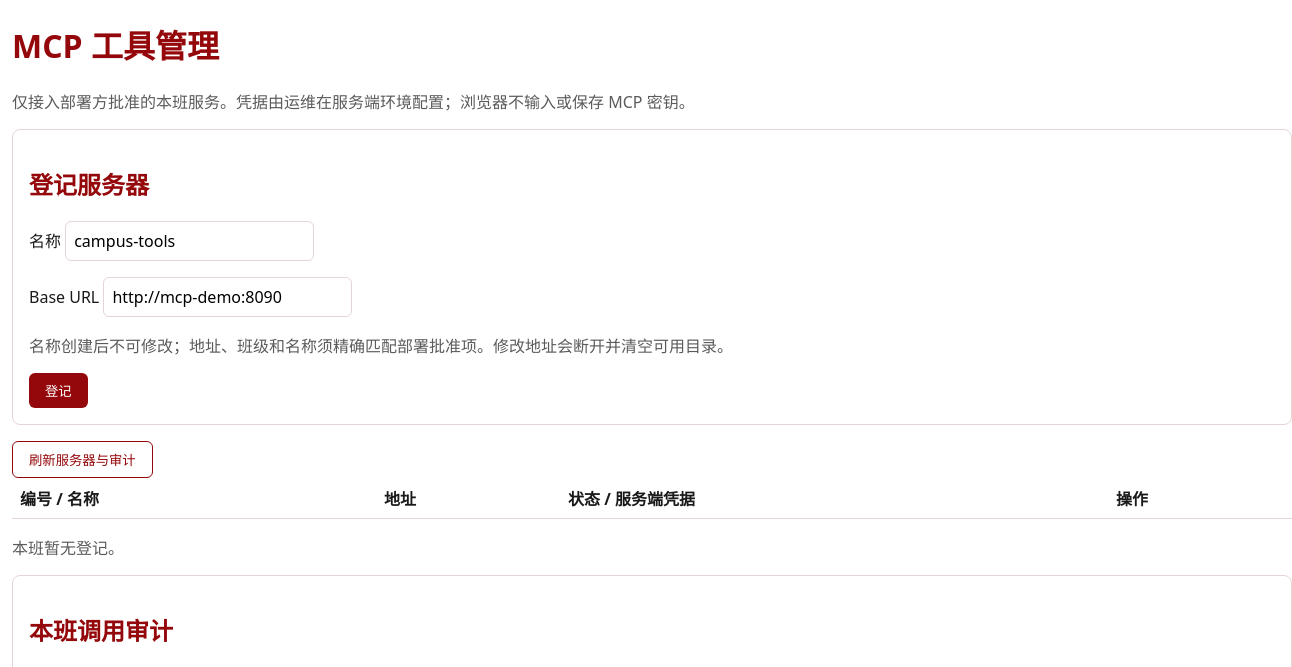
Test: MCP management › shows has_token only, supports registration/update/delete and never stores MCP credentials
Submit the form that starts with "登记服务器", box [12, 129, 1291, 425]
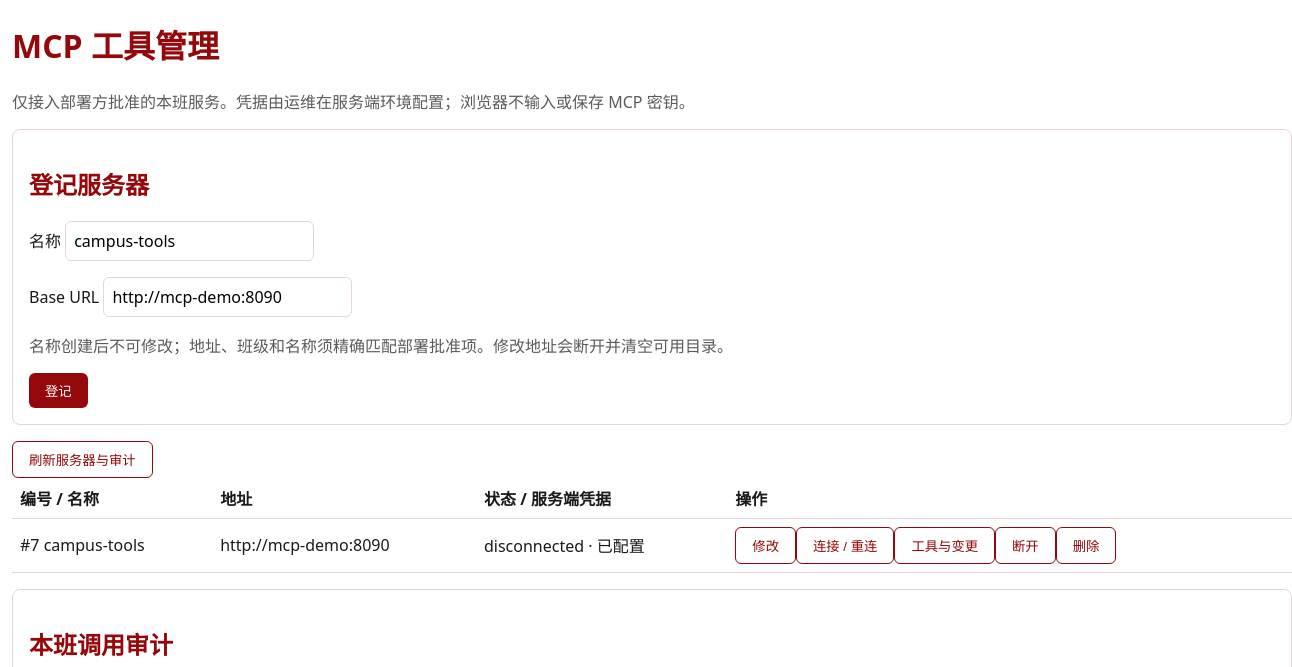
Check: the text "已配置" is shown, box [484, 535, 645, 557]
Check: the button "修改" is shown
Click the button "修改" at (766, 545), box [735, 527, 796, 564]
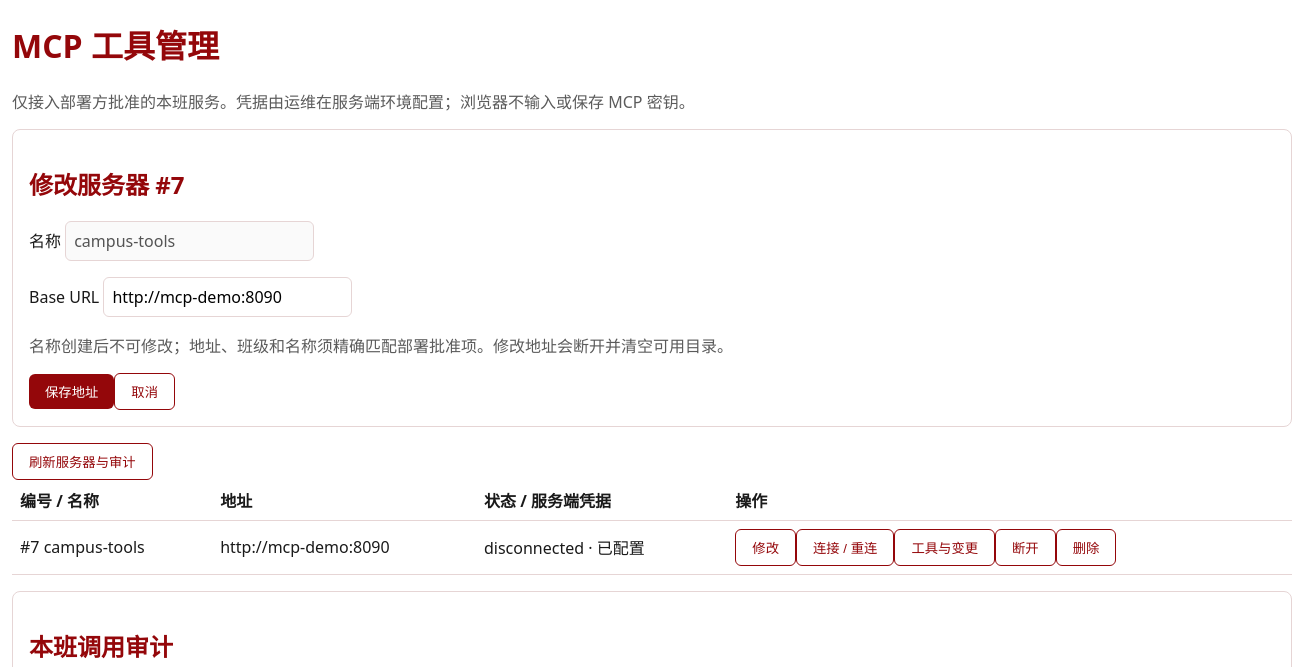
Check: the field with test id "server-name" is disabled, box [65, 221, 314, 261]
Replace the text in the field with test id "server-url" with "http://mcp-new:8090" at (228, 297), box [103, 277, 352, 317]
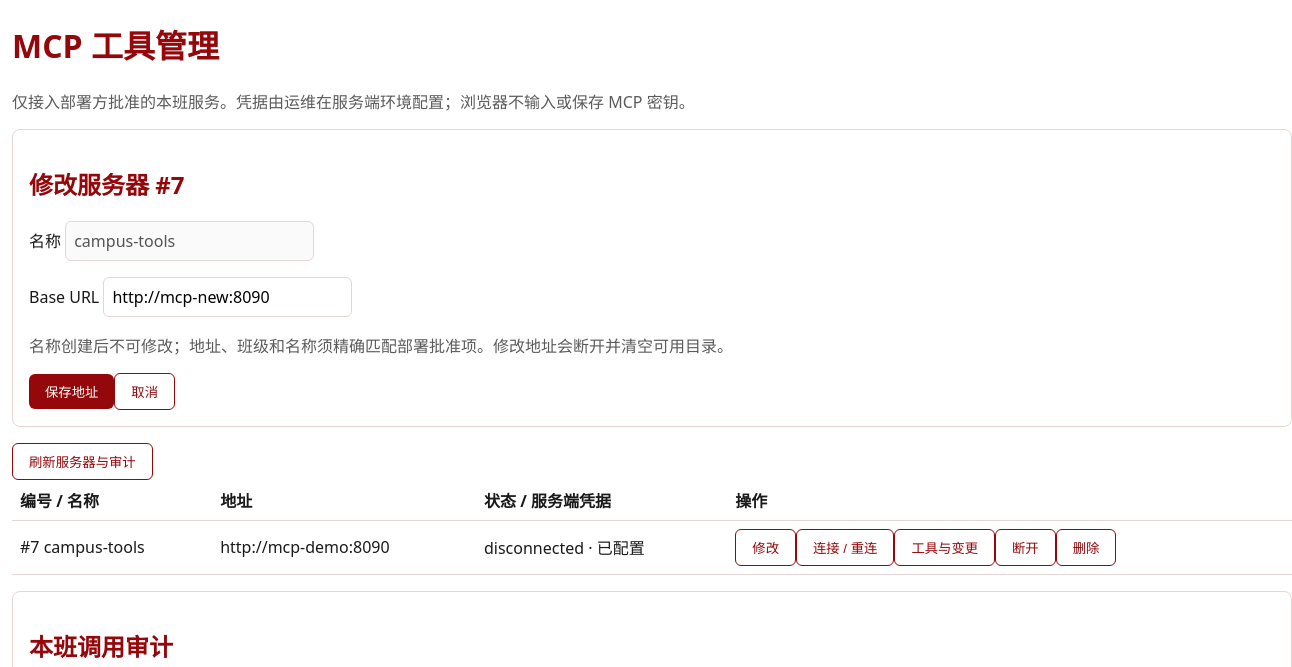
Submit the form that starts with "修改服务器 #7", box [12, 129, 1291, 427]
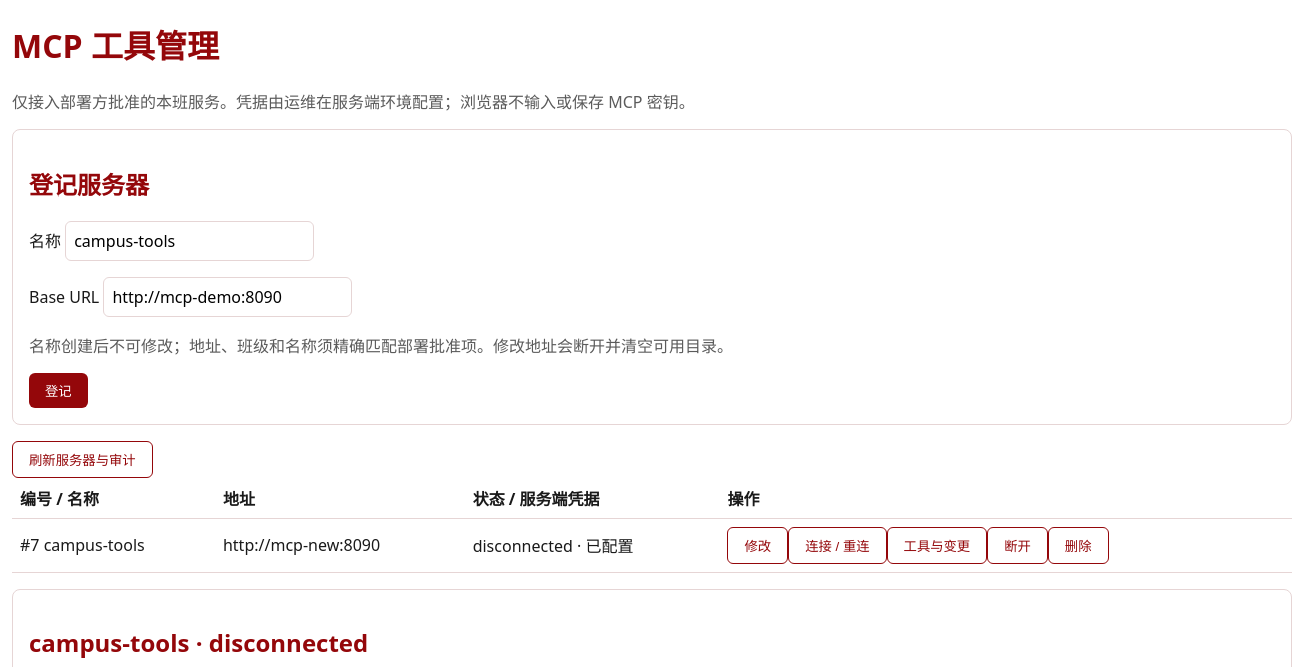
Check: the button "删除" is shown
Check: the text "http://mcp-new:8090" is shown, box [215, 518, 465, 572]
Click the button "删除" at (1078, 545), box [1048, 527, 1109, 564]
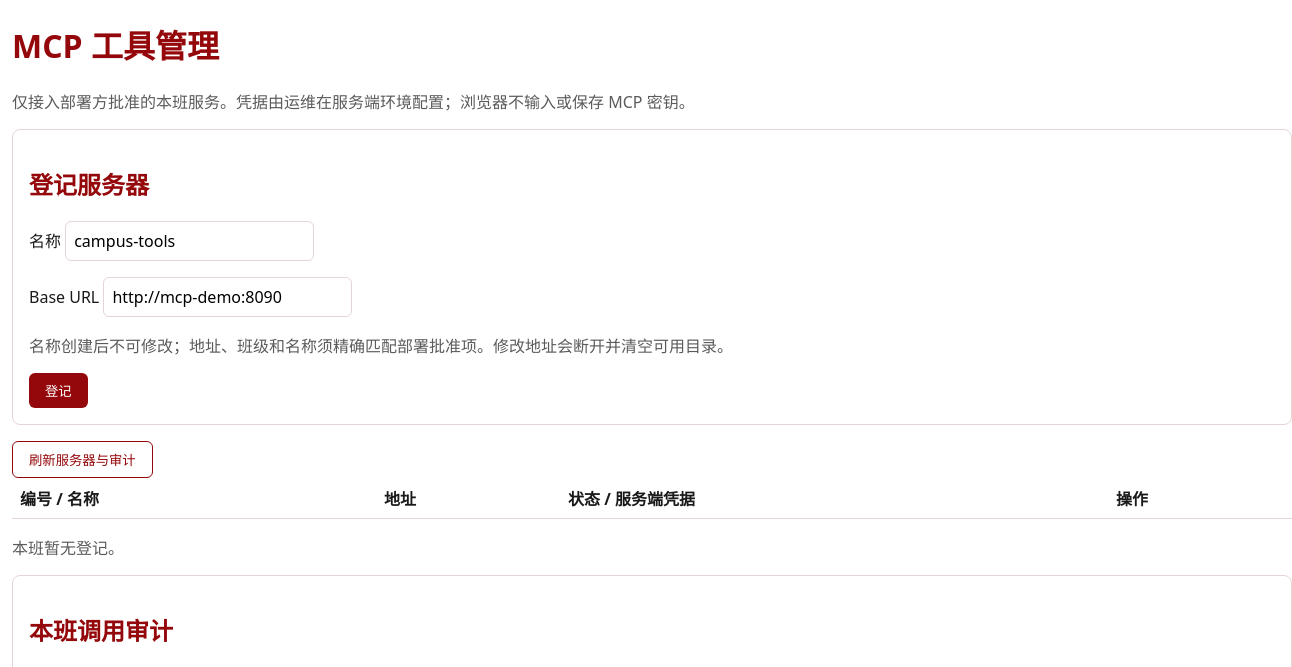
Check: the text "本班暂无登记" is shown, box [12, 537, 124, 559]
